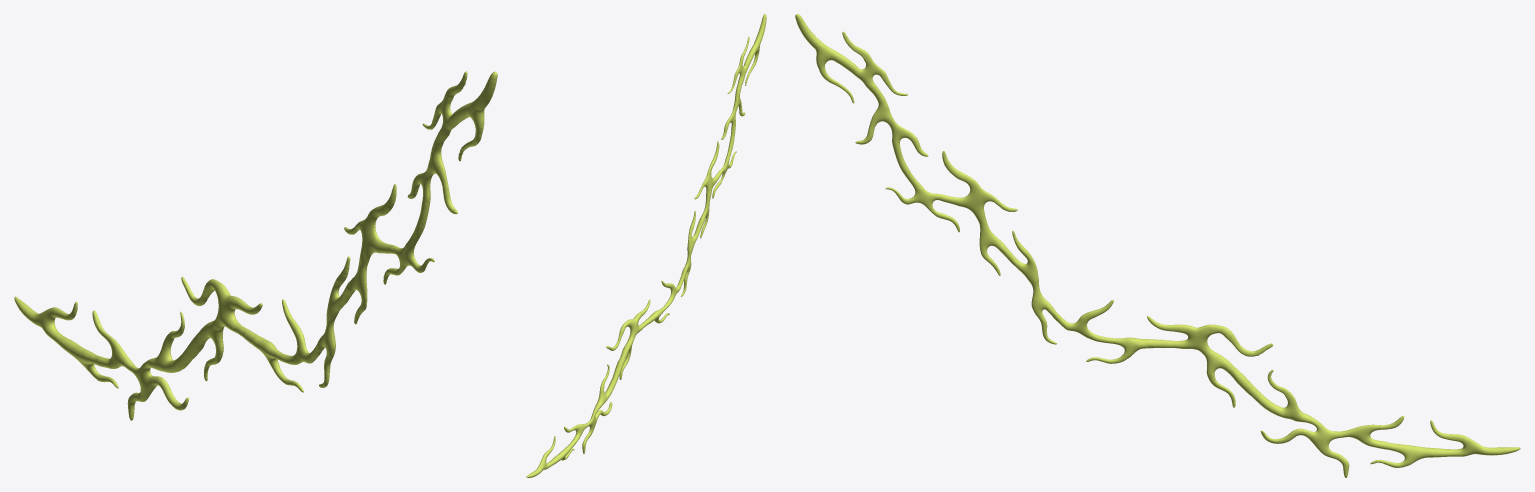
Rendered from xedova_tendril.glb.
The picture shows the model from 3 angles, left to right: view 1: azimuth 30°, elevation 25°; view 2: azimuth 150°, elevation 25°; view 3: azimuth 270°, elevation 25°; orthographic projection. The views are drawn at different scales.
Parts seen in each view (by area): view 1: frame2; view 2: frame2; view 3: frame2.
Part boxes in pixels (x1=…): frame2: x1=14, y1=71, x2=497, y2=420; frame2: x1=526, y1=14, x2=766, y2=477; frame2: x1=795, y1=14, x2=1520, y2=477.
Size of the model in its own units: 0.1024 by 3.47 by 4.91.
